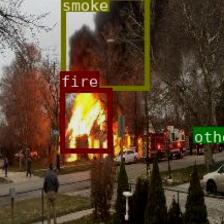fire: (59, 88, 111, 153)
smoke: (60, 0, 148, 89)
